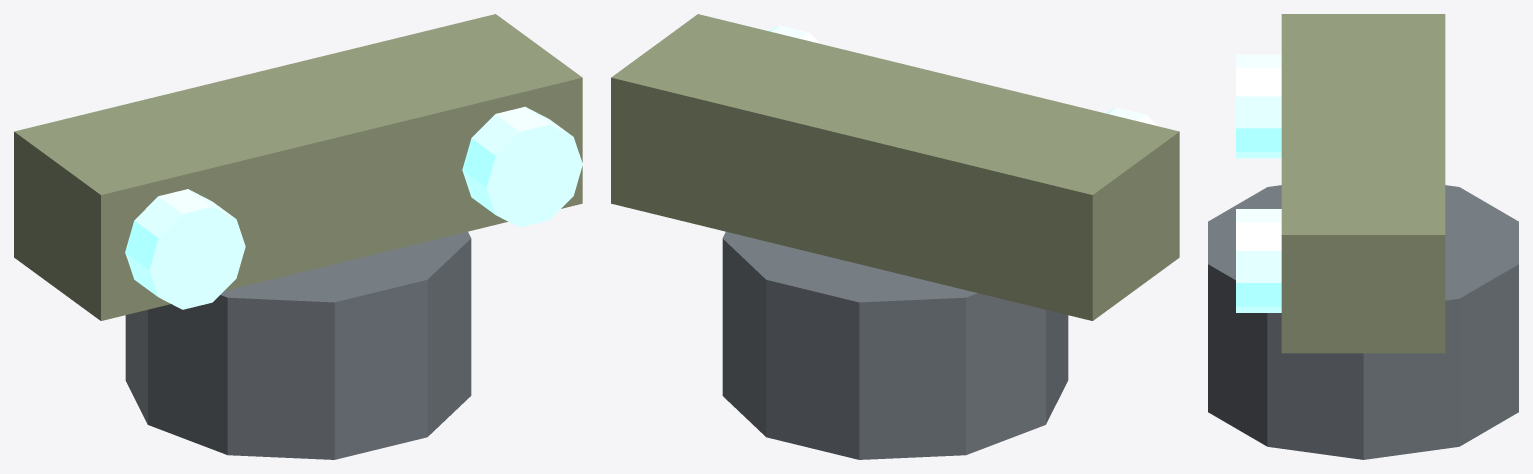
File: mech-hangar-and-battle-frames-rangefinder-head-5ed21a5f__26909.glb
3 renders of one model, left to right at view 1: azimuth 30°, elevation 25°; view 2: azimuth 150°, elevation 25°; view 3: azimuth 270°, elevation 25°, orthographic. The views are drawn at different scales.
Parts seen in each view (by area): view 1: rangefinder-head; view 2: rangefinder-head; view 3: rangefinder-head.
Boxes of the visible parts, x1,y1,x2,y2 form: rangefinder-head: [14, 14, 582, 459]; rangefinder-head: [611, 14, 1179, 459]; rangefinder-head: [1208, 14, 1518, 459].
Size of the model in its own units: 0.8 by 0.45 by 0.4755.
